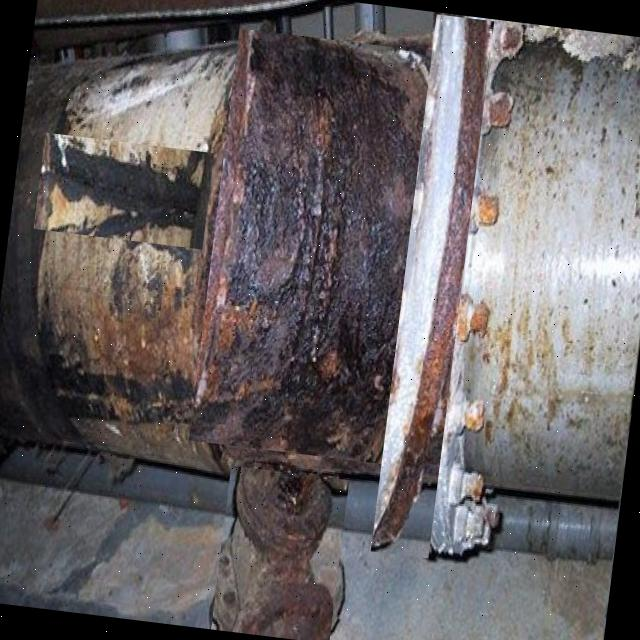Corrosion: (0, 0, 640, 640), (182, 24, 433, 478)
